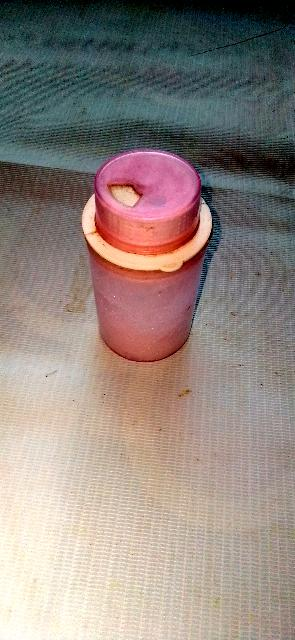hardplastic: (42, 99, 243, 377)
